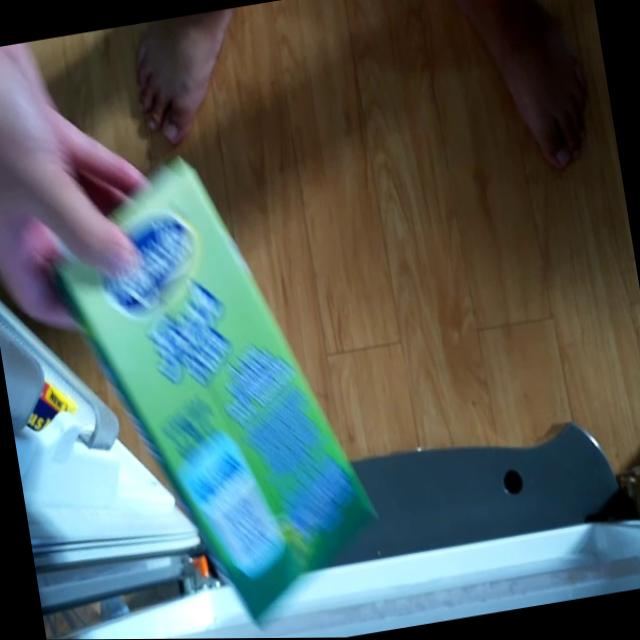milk: (28, 138, 395, 640)
